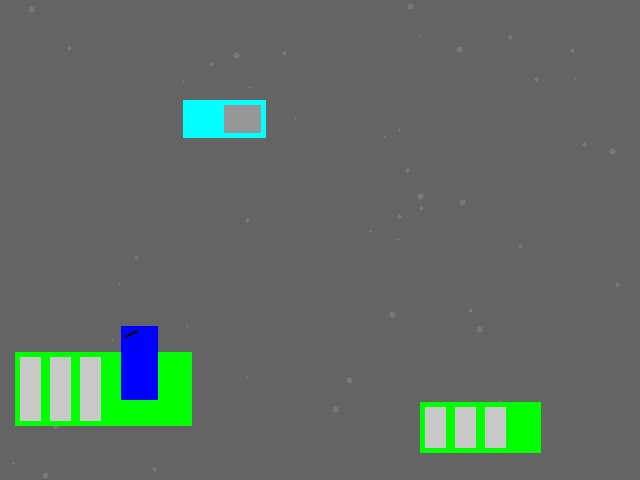bus: (15, 352, 191, 425), (420, 402, 540, 452)
motorcycle: (121, 326, 157, 399)
truck: (183, 100, 265, 137)
